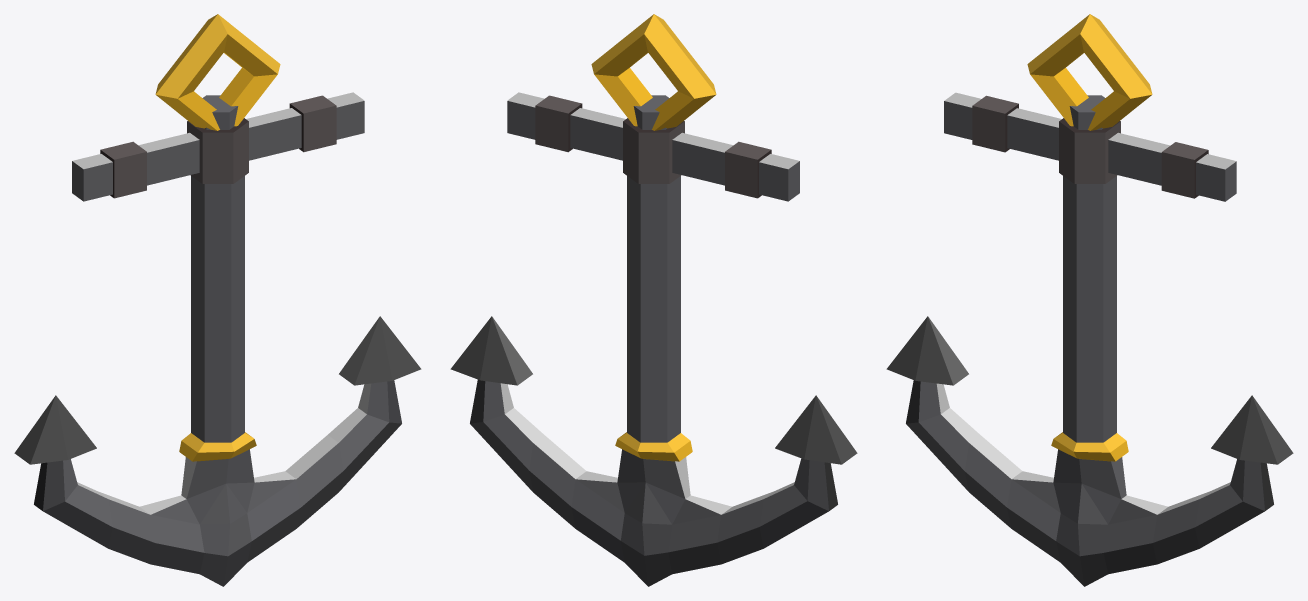
The model's file is Anchor_01.glb.
The picture shows the model from 3 angles, left to right: view 1: azimuth 30°, elevation 25°; view 2: azimuth 150°, elevation 25°; view 3: azimuth 330°, elevation 25°; orthographic projection.
Visible parts, largest first — view 1: Anchor_01; view 2: Anchor_01; view 3: Anchor_01.
Boxes of the visible parts, left/top/right/bottom form: Anchor_01: left=14, top=14, right=421, bottom=586; Anchor_01: left=450, top=14, right=857, bottom=586; Anchor_01: left=886, top=14, right=1293, bottom=586.
Size of what is drawn, in the model's own units: 0.9633 by 1.34 by 0.1399.
Materials: 1 (1 with a texture image).
